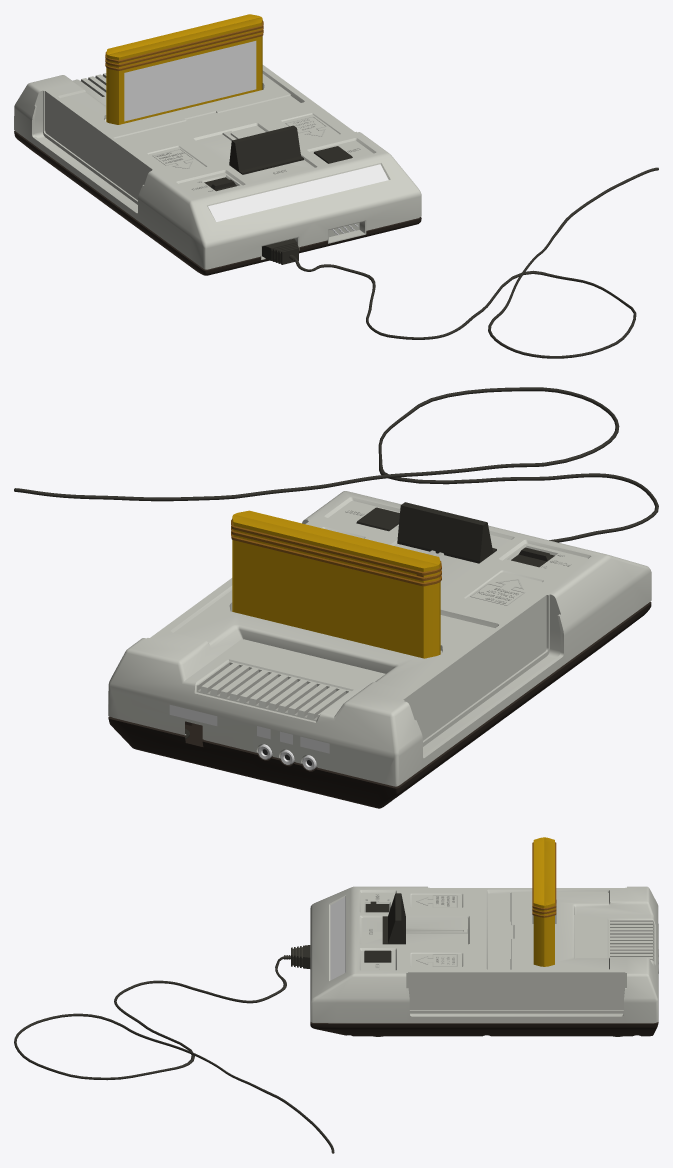
Rendered from Console.gltf.
The picture shows the model from 3 angles, top to bottom: view 1: azimuth 30°, elevation 25°; view 2: azimuth 150°, elevation 25°; view 3: azimuth 270°, elevation 25°; orthographic projection. The views are drawn at different scales.
Visible parts, largest first — view 1: Console, Cartridge, Cord_left, Switch, Fork_left, Hole; view 2: Console, Cartridge, Cord_left, Switch, Button; view 3: Console, Cartridge, Cord_left, Switch, Fork_left.
Part boxes in pixels (bbox=[...]): Console: bbox=[14, 65, 421, 275]; Cartridge: bbox=[105, 14, 263, 124]; Cord_left: bbox=[294, 167, 658, 358]; Switch: bbox=[229, 125, 303, 174]; Fork_left: bbox=[262, 238, 298, 264]; Hole: bbox=[260, 220, 366, 259]; Console: bbox=[108, 491, 651, 808]; Cartridge: bbox=[231, 510, 441, 658]; Cord_left: bbox=[14, 387, 658, 542]; Switch: bbox=[397, 502, 496, 563]; Button: bbox=[356, 507, 399, 531]; Console: bbox=[310, 886, 658, 1036]; Cartridge: bbox=[532, 837, 556, 966]; Cord_left: bbox=[14, 956, 334, 1153]; Switch: bbox=[382, 893, 405, 944]; Fork_left: bbox=[284, 945, 310, 968].
Size of the model in its own units: 31.16 by 8.83 by 41.12.
